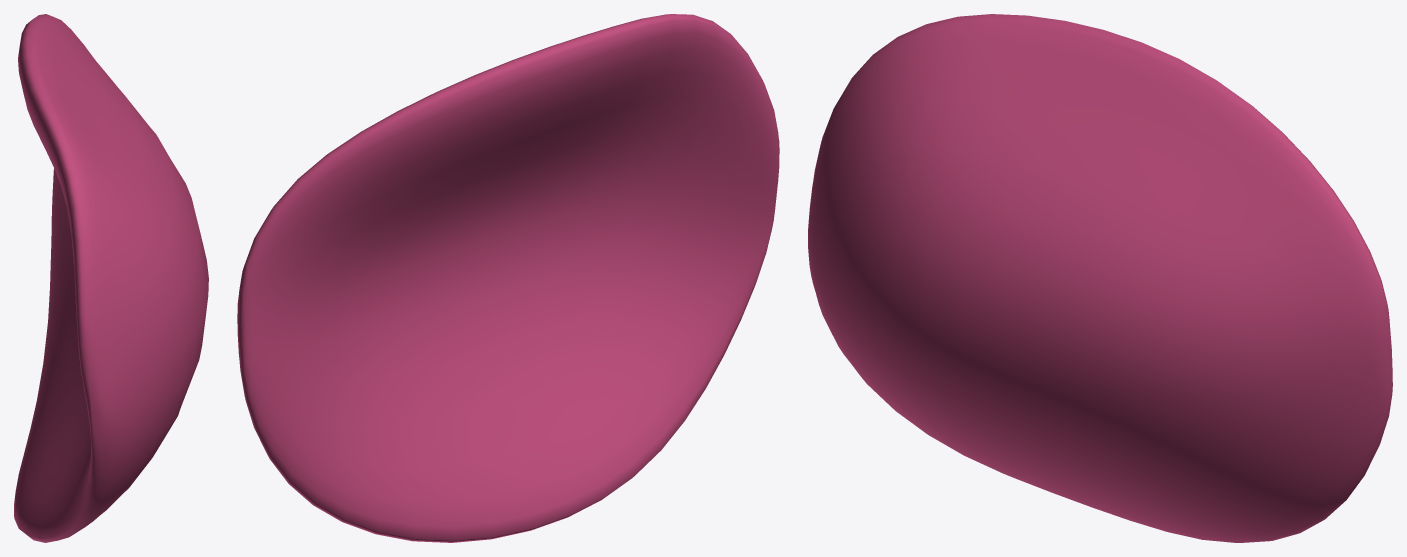
3 views of the same model, side by side, from view 1: azimuth 30°, elevation 25°; view 2: azimuth 150°, elevation 25°; view 3: azimuth 270°, elevation 25° (orthographic). The views are drawn at different scales.
Parts seen in each view (by area): view 1: 左侧臀小肌转子囊; view 2: 左侧臀小肌转子囊; view 3: 左侧臀小肌转子囊.
Part boxes in pixels (box(x1,y1,x2,y2)): 左侧臀小肌转子囊: box(14, 14, 208, 542); 左侧臀小肌转子囊: box(237, 14, 779, 542); 左侧臀小肌转子囊: box(808, 14, 1392, 542).
Size of the model in its own units: 0.0172 by 0.0279 by 0.0303.
